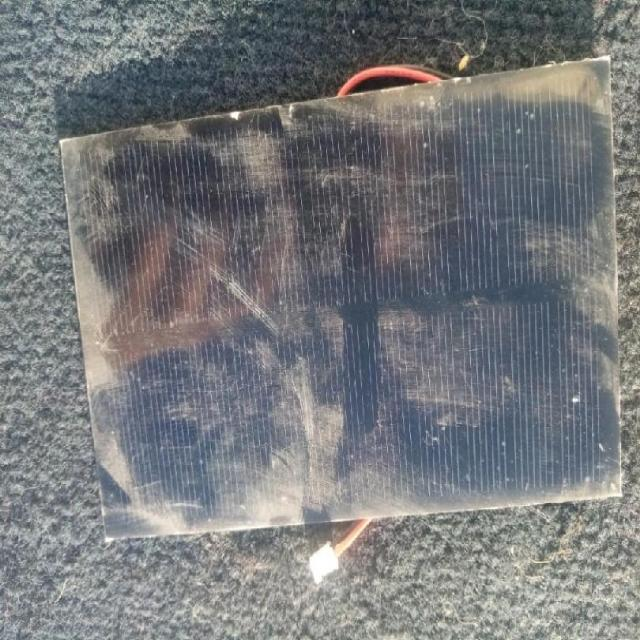faulty: (75, 115, 620, 518)
